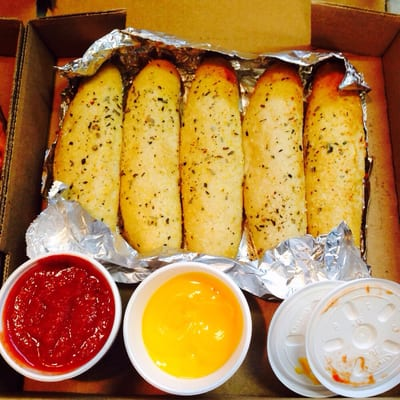sushi: (123, 262, 252, 396), (267, 277, 400, 397), (0, 253, 122, 382)
